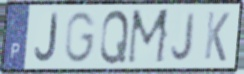G: (64, 10, 98, 65)
J: (170, 11, 198, 63), (33, 11, 59, 63)
K: (202, 10, 232, 64)
M: (125, 8, 172, 67)
Q: (99, 8, 131, 66)
